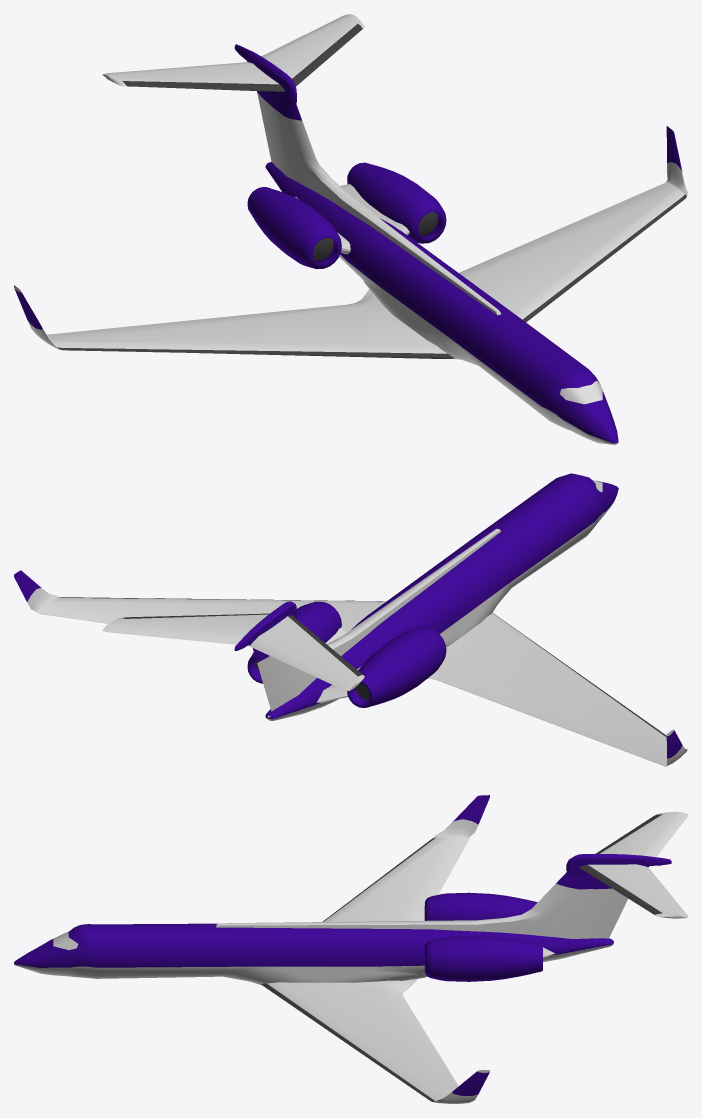
File: gulfstream.lod0.glb
3 views of the same model, one above another, from view 1: azimuth 30°, elevation 25°; view 2: azimuth 150°, elevation 25°; view 3: azimuth 270°, elevation 25° (orthographic). The views are drawn at different scales.
Visible parts, largest first — view 1: Object_4, Object_5, Object_8; view 2: Object_4, Object_5, Object_8; view 3: Object_4, Object_5, Object_8.
Boxes of the visible parts, x1,y1,x2,y2 form: Object_4: (14,14,687,444); Object_5: (14,44,682,443); Object_8: (57,24,686,358); Object_4: (27,479,687,766); Object_5: (14,473,682,758); Object_8: (58,597,666,737); Object_4: (14,811,687,1103); Object_5: (14,795,671,1095); Object_8: (261,814,662,1101).
Bounding box in the file's own units: 28.94 × 6.49 × 30.
